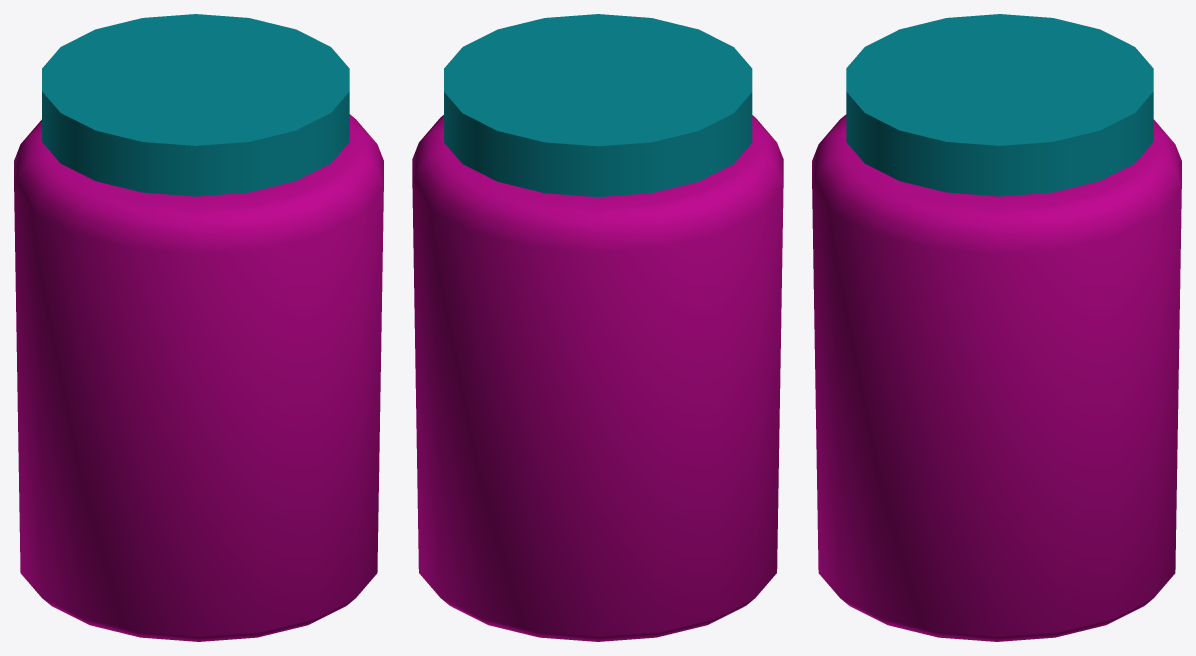
Rendered from cherryjam_Extended.fbx.
3 views of the same model, side by side, from view 1: azimuth 30°, elevation 25°; view 2: azimuth 150°, elevation 25°; view 3: azimuth 270°, elevation 25° (orthographic).
Parts seen in each view (by area): view 1: Cylinder002; view 2: Cylinder002; view 3: Cylinder002.
Boxes of the visible parts, x1=… form: Cylinder002: x1=14, y1=14, x2=383, y2=641; Cylinder002: x1=412, y1=14, x2=783, y2=641; Cylinder002: x1=812, y1=14, x2=1181, y2=641.
Size of the model in its own units: 588 by 851 by 579.
